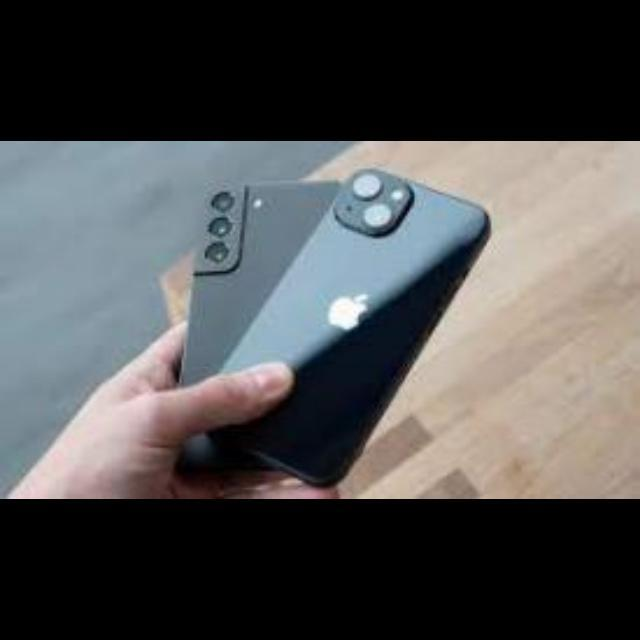Phone: (212, 168, 490, 486), (172, 180, 340, 474)
